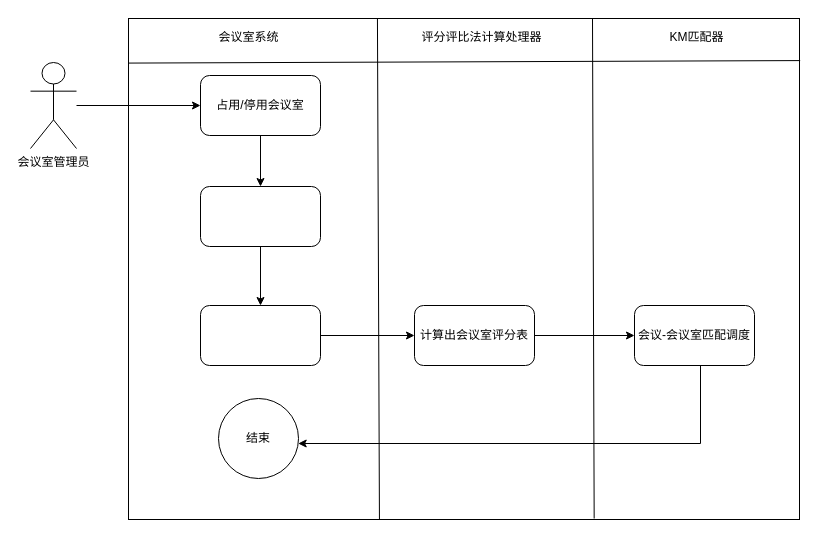
Image size: 819x538. Some labels were removed from this diagram. The shapes that lost their labels are listed below. From the top down, each one's centre as x and y in pixels, then its label:
At point (260, 216): "查询将取消的会议".
At point (260, 335): "查询空闲的会议室".
